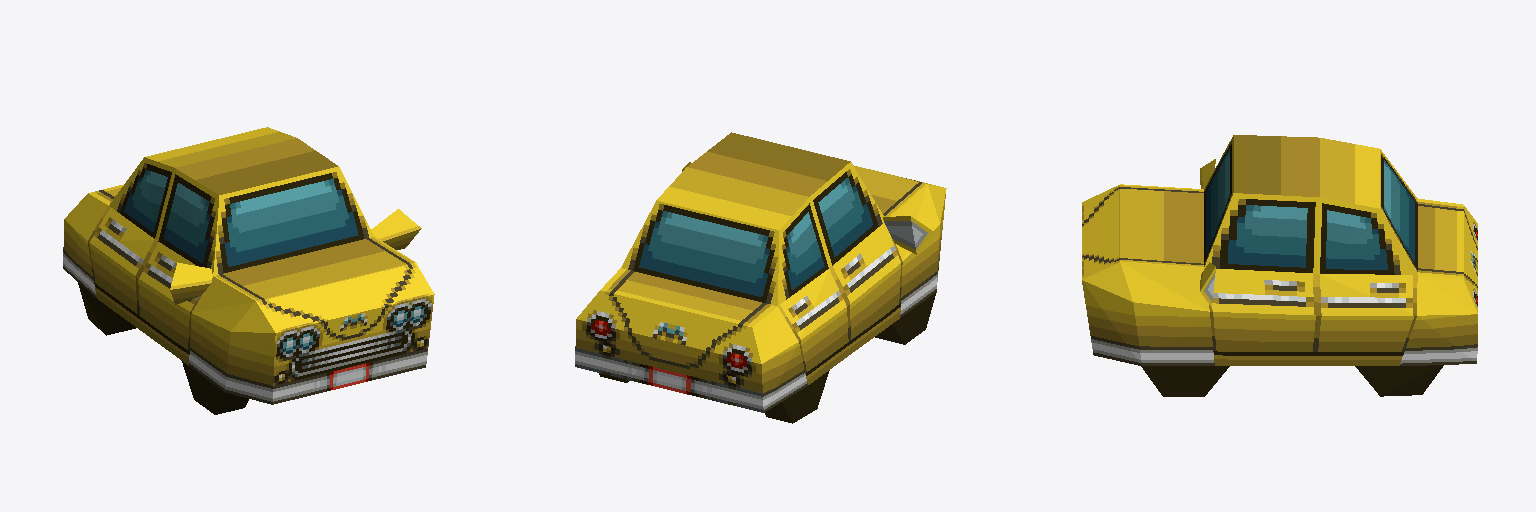
3 renders of one model, left to right at view 1: azimuth 30°, elevation 25°; view 2: azimuth 150°, elevation 25°; view 3: azimuth 270°, elevation 25°, orthographic.
Bounding box in the file's own units: 1.86 × 1.3 × 2.54.
1 materials, 1 textured.